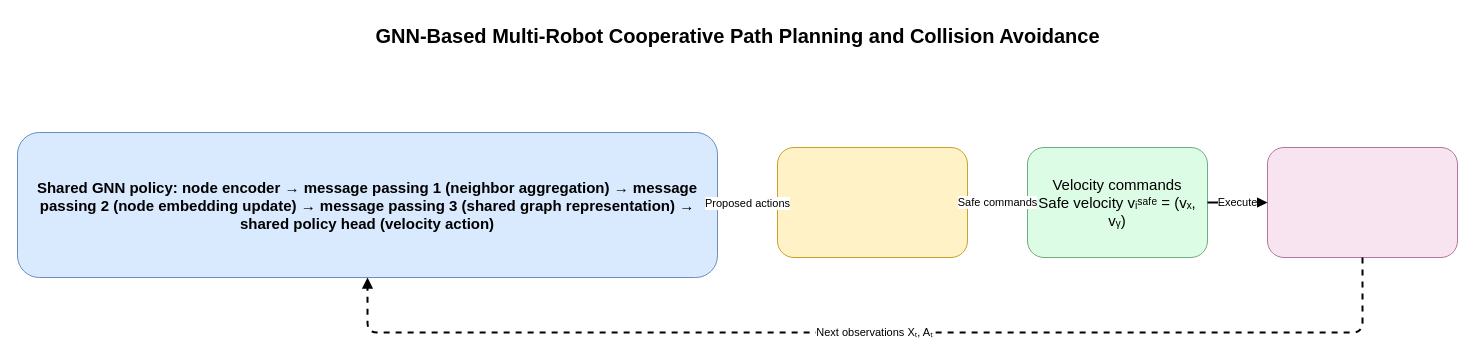
The diagram is 1475 pixels wide and 358 high, and some of its shapes have lost their labels. The box of each missing label's shape, as (x1, y1, x2, y2) in pixels:
Multi-robot environment Physics rollout, obstacles, goals, and rewards: (1266, 146, 1458, 258)
Safety filter Collision check Velocity clipping ORCA-style correction: (776, 146, 968, 258)
